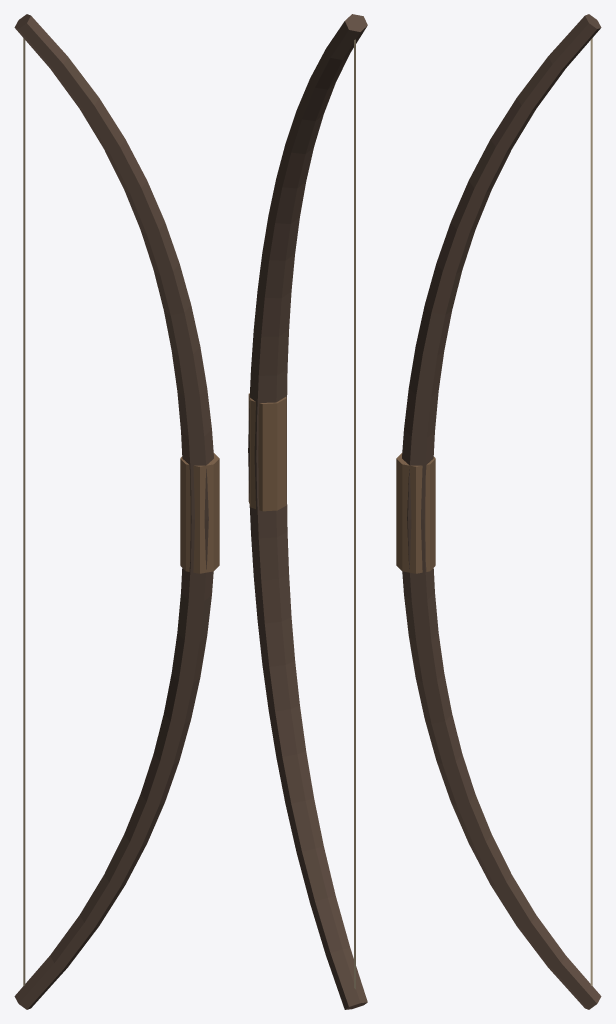
The model's file is composite_bow.glb.
3 views of the same model, side by side, from view 1: azimuth 90°, elevation 25°; view 2: azimuth 210°, elevation 25°; view 3: azimuth 270°, elevation 25° (orthographic).
Visible parts, largest first — view 1: Composite_Bow; view 2: Composite_Bow; view 3: Composite_Bow.
Part boxes in pixels (x1,y1,x2,y2): Composite_Bow: (14,14,219,1009); Composite_Bow: (248,14,367,1009); Composite_Bow: (396,14,601,1009).
Size of the model in its own units: 0.04 by 1.11 by 0.2084.
